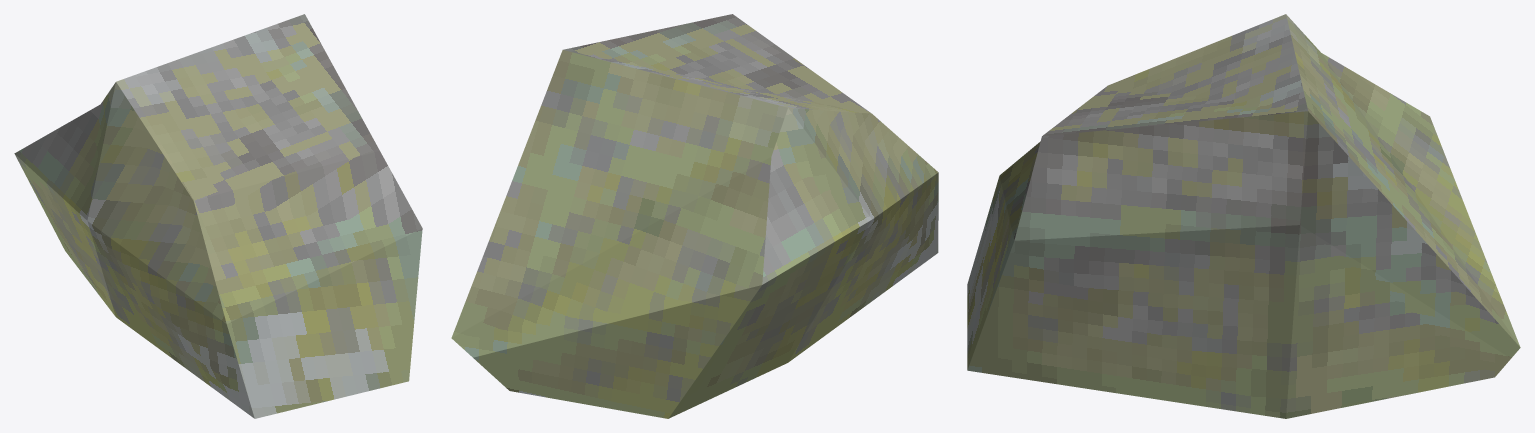
The model's file is Stone.fbx.
The picture shows the model from 3 angles, left to right: view 1: azimuth 30°, elevation 25°; view 2: azimuth 150°, elevation 25°; view 3: azimuth 270°, elevation 25°; orthographic projection. The views are drawn at different scales.
Parts seen in each view (by area): view 1: Cube; view 2: Cube; view 3: Cube.
Part boxes in pixels (x1=…): Cube: x1=14, y1=14, x2=422, y2=418; Cube: x1=451, y1=14, x2=938, y2=418; Cube: x1=967, y1=14, x2=1520, y2=418.
Bounding box in the file's own units: 19.87 × 16.02 × 28.26.
Materials: 1 (1 with a texture image).
